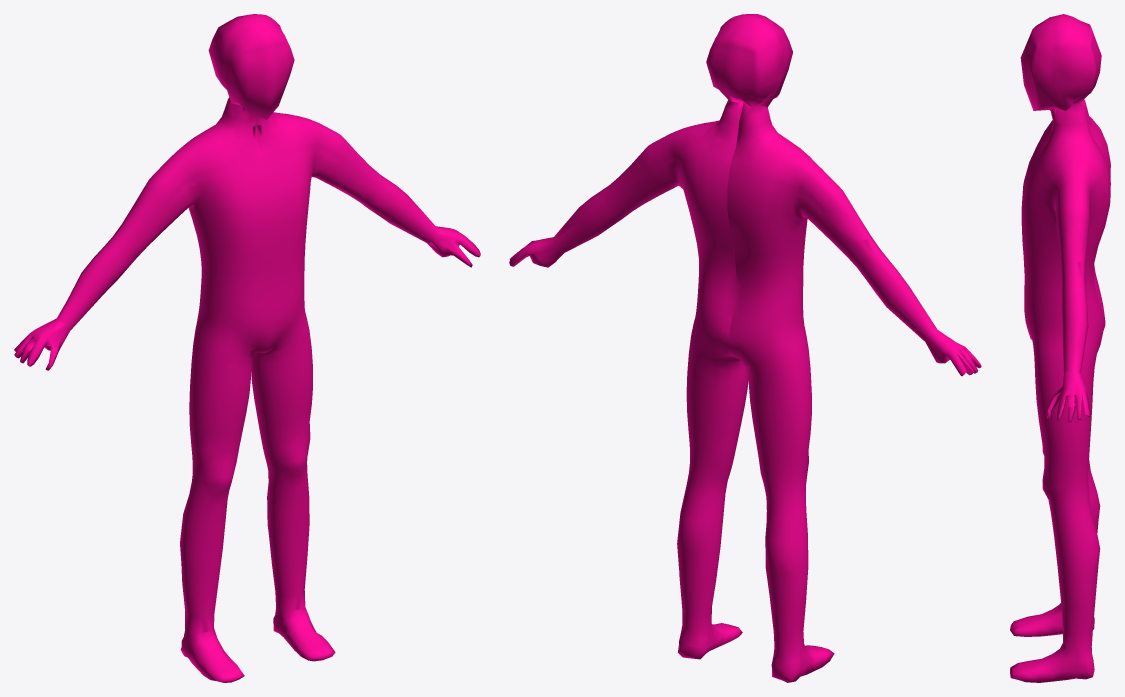
Rendered from pink_dummy.dae.
The picture shows the model from 3 angles, left to right: view 1: azimuth 30°, elevation 25°; view 2: azimuth 150°, elevation 25°; view 3: azimuth 270°, elevation 25°; orthographic projection.
Visible parts, largest first — view 1: Cube; view 2: Cube; view 3: Cube.
Boxes of the visible parts, <box> form: Cube: <box>14,14,480,682</box>; Cube: <box>509,14,981,682</box>; Cube: <box>1010,14,1110,682</box>.
Size of the model in its own units: 1.51 by 0.2888 by 2.01.
